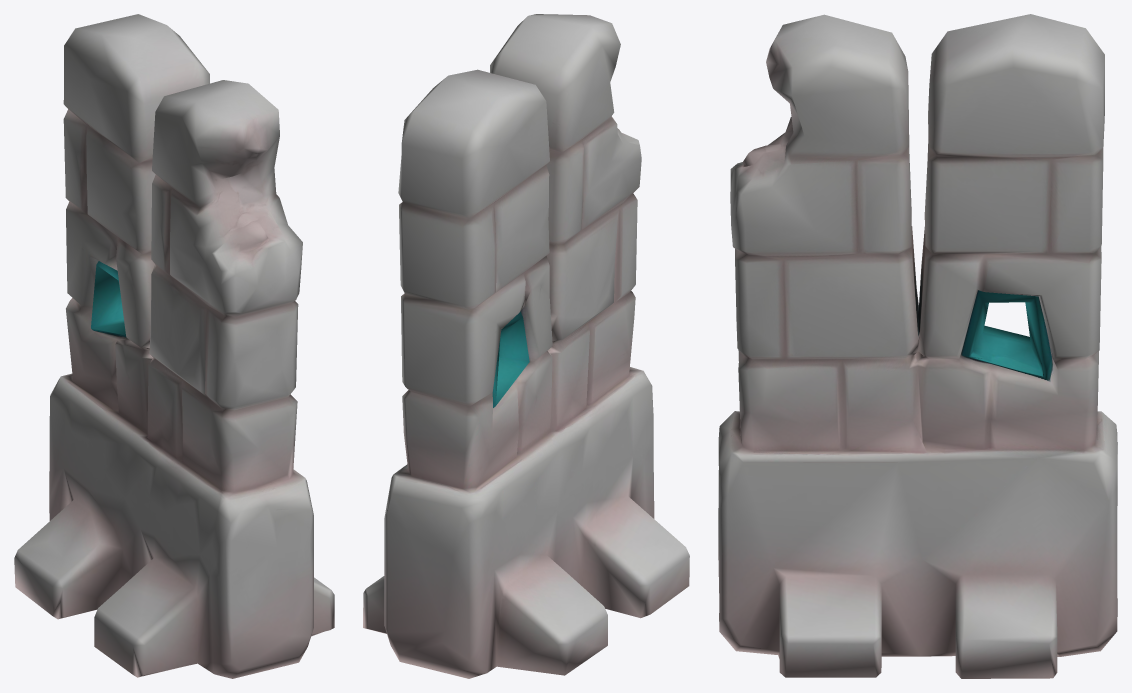
Rendered from standing-pair.glb.
The picture shows the model from 3 angles, left to right: view 1: azimuth 30°, elevation 25°; view 2: azimuth 150°, elevation 25°; view 3: azimuth 270°, elevation 25°; orthographic projection. The views are drawn at different scales.
Parts seen in each view (by area): view 1: tripo_node_6ce39548-17a5-4f29-90e5-d173aeb66857; view 2: tripo_node_6ce39548-17a5-4f29-90e5-d173aeb66857; view 3: tripo_node_6ce39548-17a5-4f29-90e5-d173aeb66857.
Part boxes in pixels (<box>): tripo_node_6ce39548-17a5-4f29-90e5-d173aeb66857: <box>14,14,334,678</box>; tripo_node_6ce39548-17a5-4f29-90e5-d173aeb66857: <box>363,14,689,678</box>; tripo_node_6ce39548-17a5-4f29-90e5-d173aeb66857: <box>718,14,1117,678</box>.
Size of the model in its own units: 0.3772 by 0.9769 by 0.5861.
Materials: 1 (1 with a texture image).
